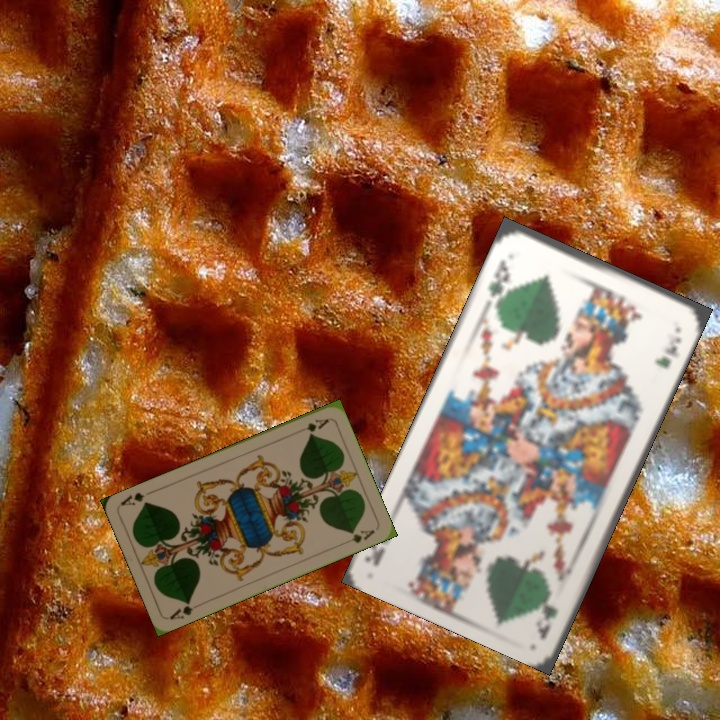GA: (166, 596, 196, 622), (292, 415, 331, 435)
GK: (532, 587, 560, 643), (484, 254, 513, 306)
